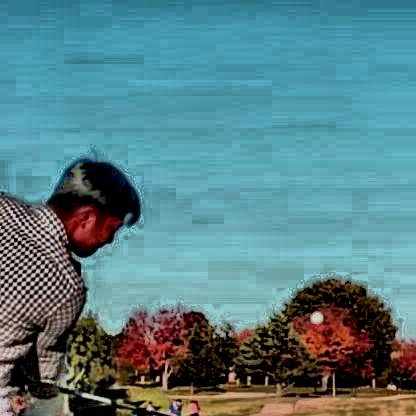golfball: (305, 306, 322, 321)
